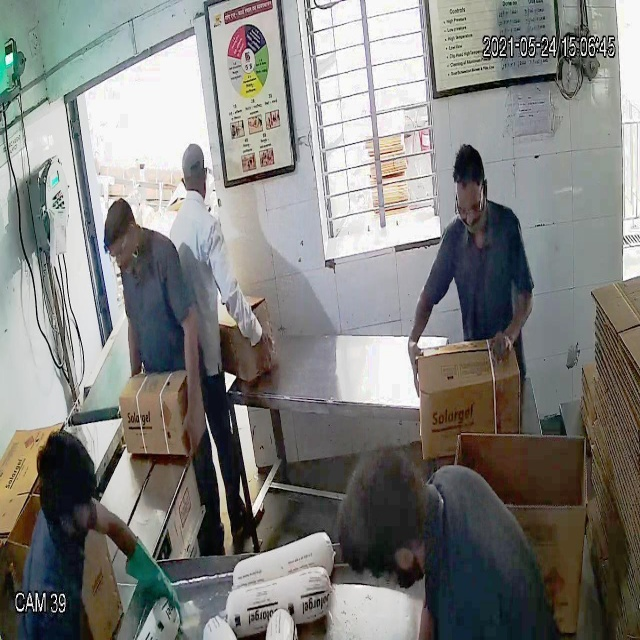Gafas: (451, 188, 486, 224), (104, 230, 136, 268)
